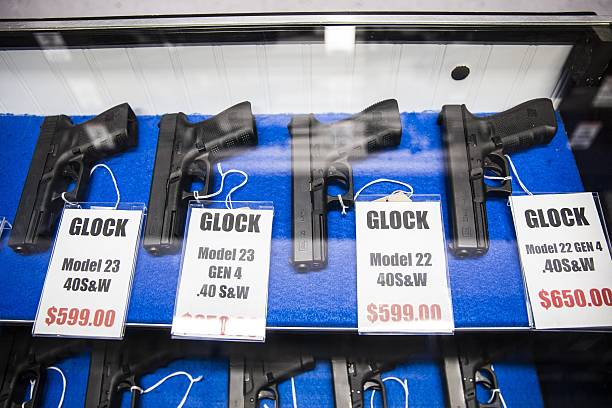pistol: (286, 97, 406, 275), (9, 101, 137, 263), (144, 99, 258, 265), (440, 97, 528, 258)
